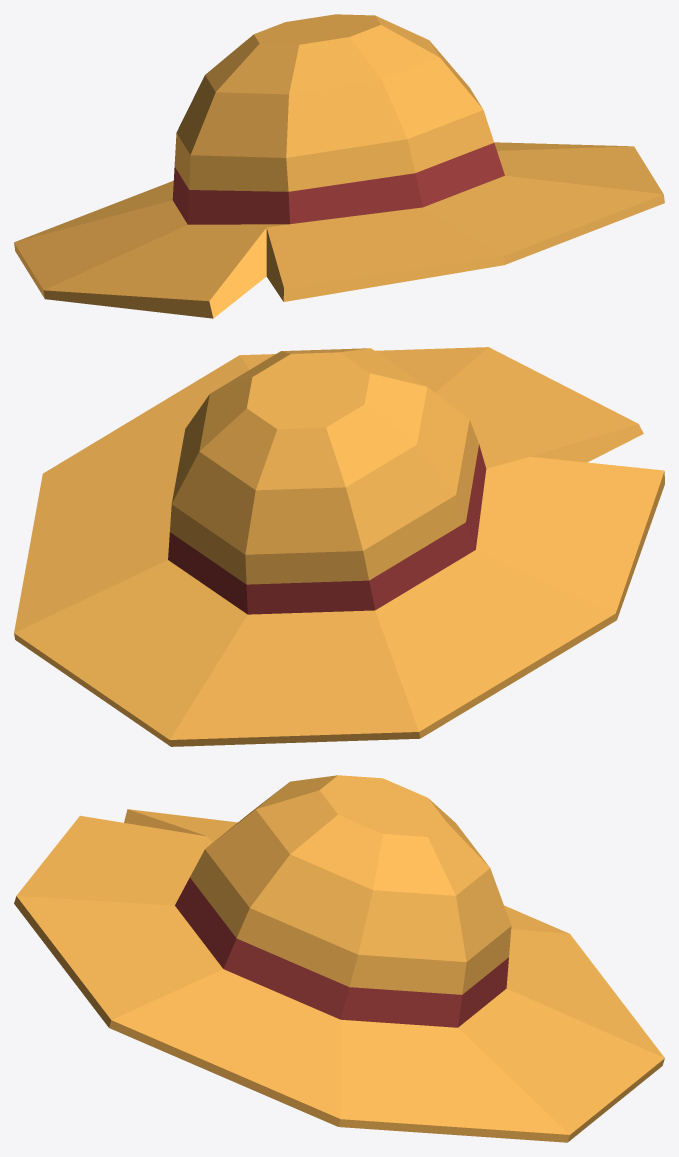
The model's file is StrawHat.fbx.
3 renders of one model, top to bottom at view 1: azimuth 30°, elevation 25°; view 2: azimuth 150°, elevation 25°; view 3: azimuth 270°, elevation 25°, orthographic. The views are drawn at different scales.
Parts seen in each view (by area): view 1: Sphere; view 2: Sphere; view 3: Sphere.
Part boxes in pixels (x1=…): Sphere: x1=14, y1=14, x2=664, y2=318; Sphere: x1=14, y1=347, x2=664, y2=746; Sphere: x1=14, y1=775, x2=664, y2=1142.
Bounding box in the file's own units: 75.54 × 34.15 × 73.08.
